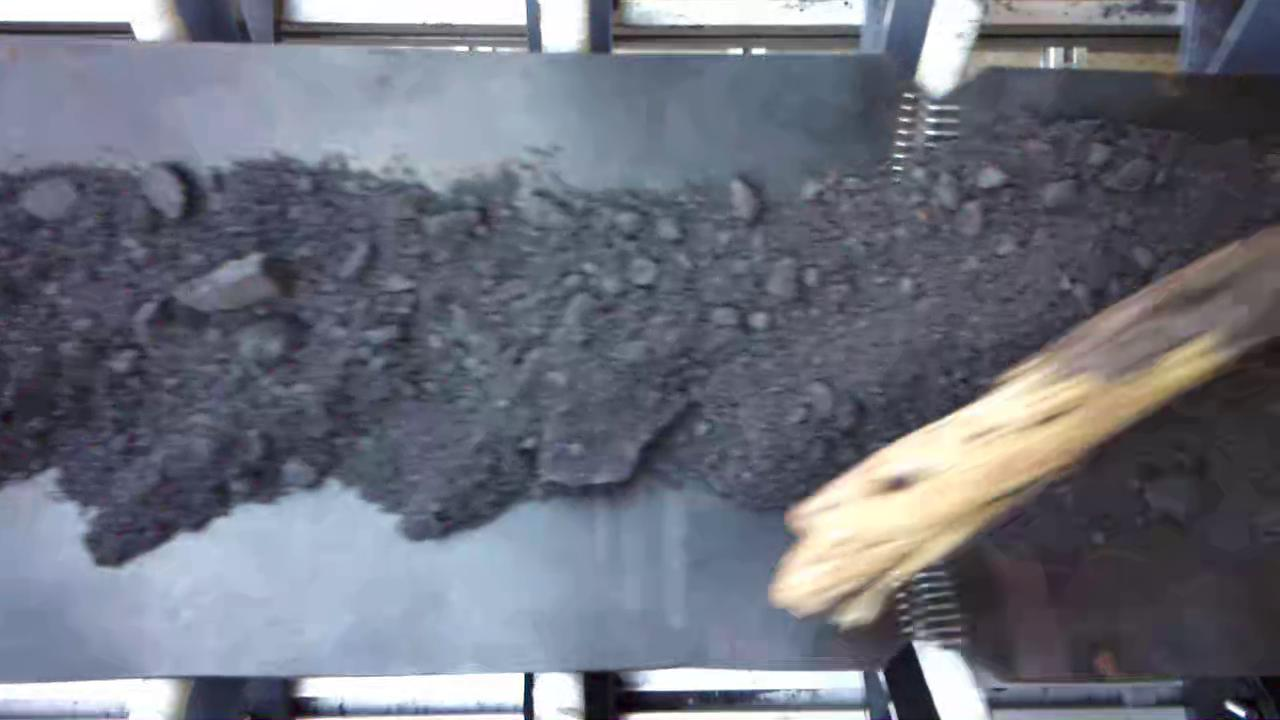conveyor: (10, 77, 1280, 663)
